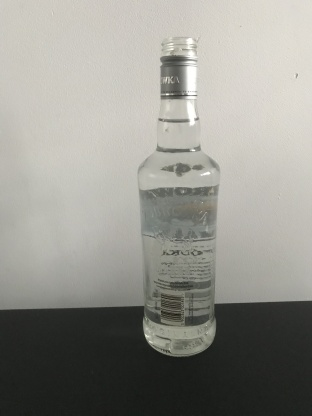nakretka: (158, 35, 199, 99)
